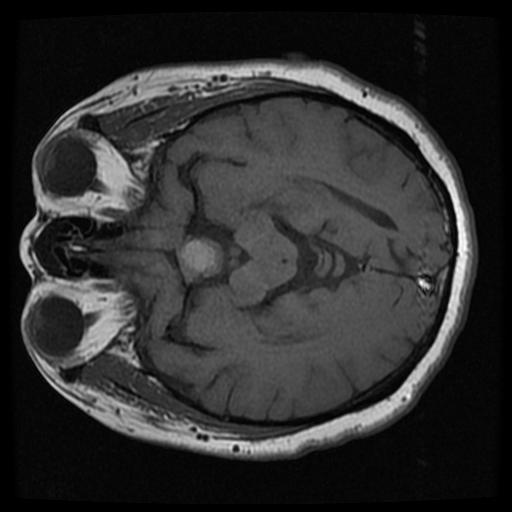pituitary tumour: (176, 235, 222, 284)
